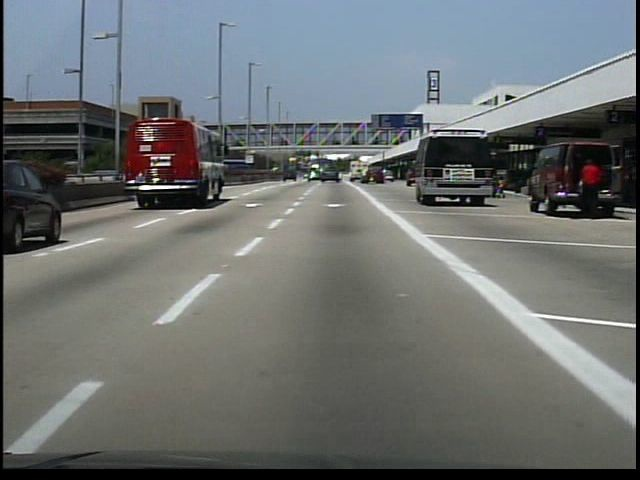person: (578, 156, 601, 220), (380, 167, 391, 187)
